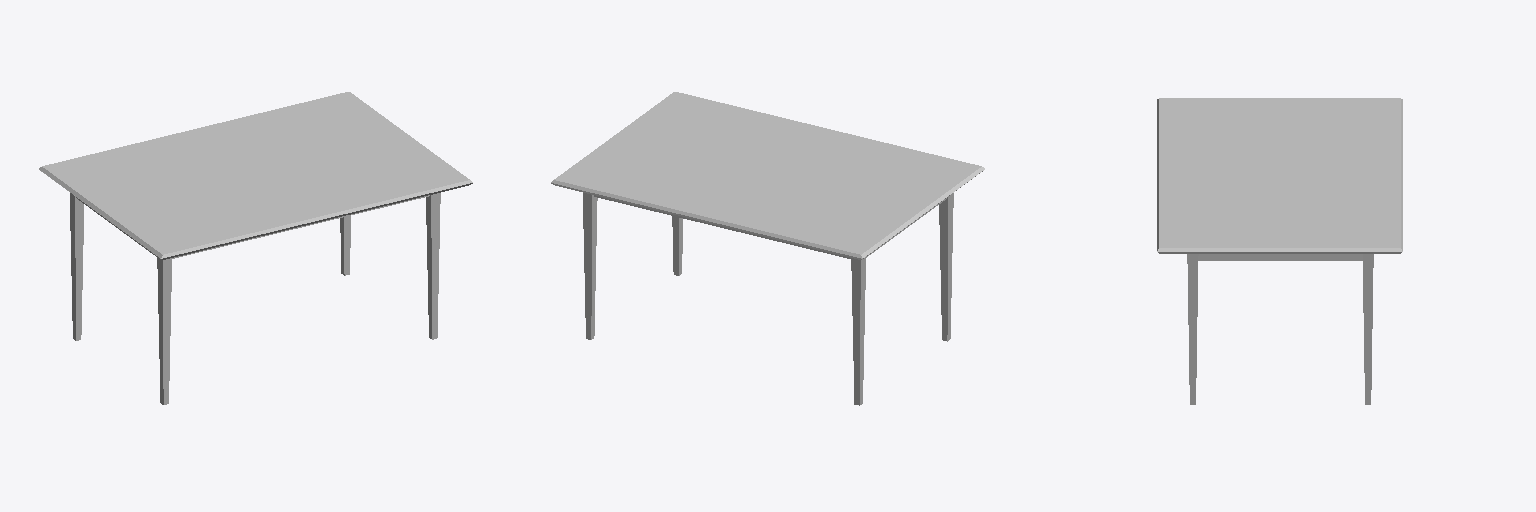
File: Table.obj
The picture shows the model from 3 angles: view 1: azimuth 30°, elevation 25°; view 2: azimuth 150°, elevation 25°; view 3: azimuth 270°, elevation 25°; orthographic projection.
Visible parts, largest first — view 1: Table__Cube.001, Cube.003_Cube.007, Cube.001_Cube.008, Cube.004_Cube.005, Cube.002_Cube.009; view 2: Table__Cube.001, Cube.004_Cube.005, Cube.002_Cube.009, Cube.003_Cube.007, Cube.001_Cube.008; view 3: Table__Cube.001, Cube.002_Cube.009, Cube.001_Cube.008, Cube.005_Cube.006.
Part boxes in pixels (x1,y1,x2,y2): Table__Cube.001: (39,92,472,259); Cube.003_Cube.007: (157,256,171,404); Cube.001_Cube.008: (426,193,440,339); Cube.004_Cube.005: (70,193,83,340); Cube.002_Cube.009: (340,216,350,275); Table__Cube.001: (551,92,984,259); Cube.004_Cube.005: (851,257,865,405); Cube.002_Cube.009: (583,193,597,339); Cube.003_Cube.007: (939,193,953,341); Cube.001_Cube.008: (672,216,682,275); Table__Cube.001: (1157,98,1402,253); Cube.002_Cube.009: (1363,254,1373,404); Cube.001_Cube.008: (1187,254,1198,404); Cube.005_Cube.006: (1198,254,1362,260).
Size of the model in its own units: 2.28 by 1.16 by 1.55.